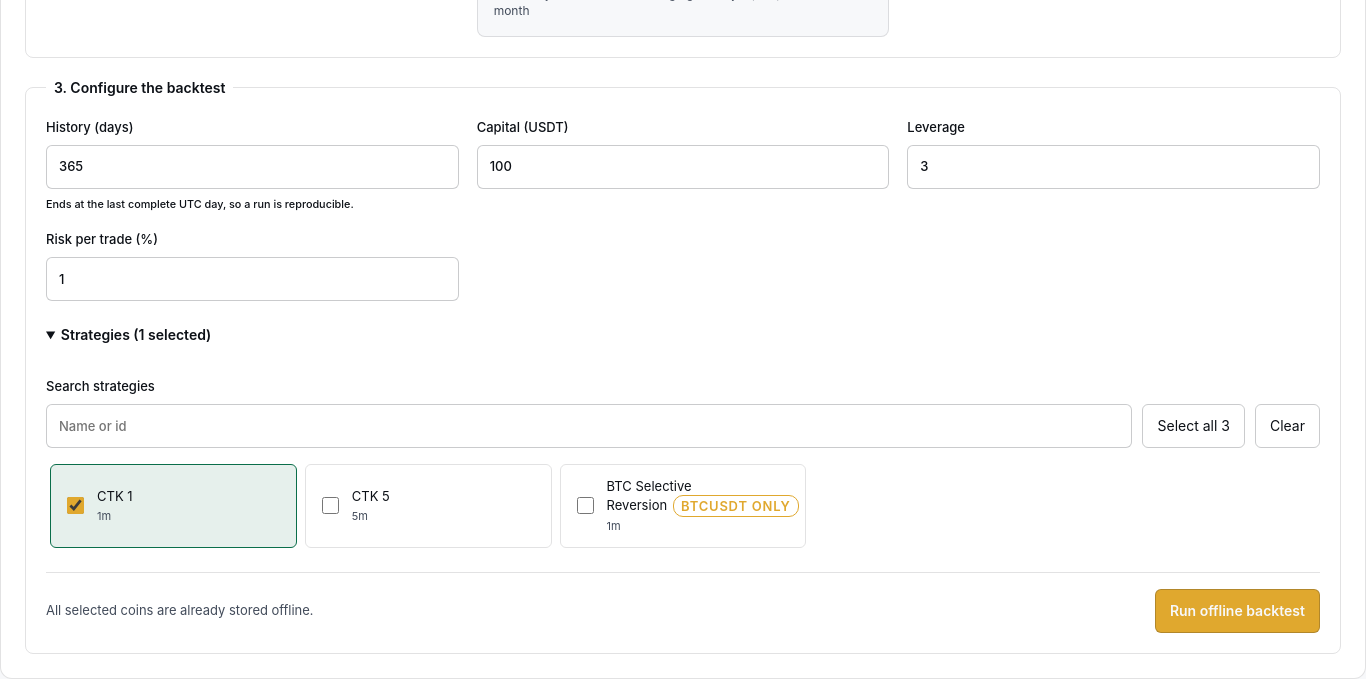
selects every searched strategy at once and the count follows the search
(page scrolled)
Check: the checkbox labelled "CTK 55m" is shown, box [322,497,339,514]
Click the button "Select all 3": (1194, 426) [1142,404,1245,448]
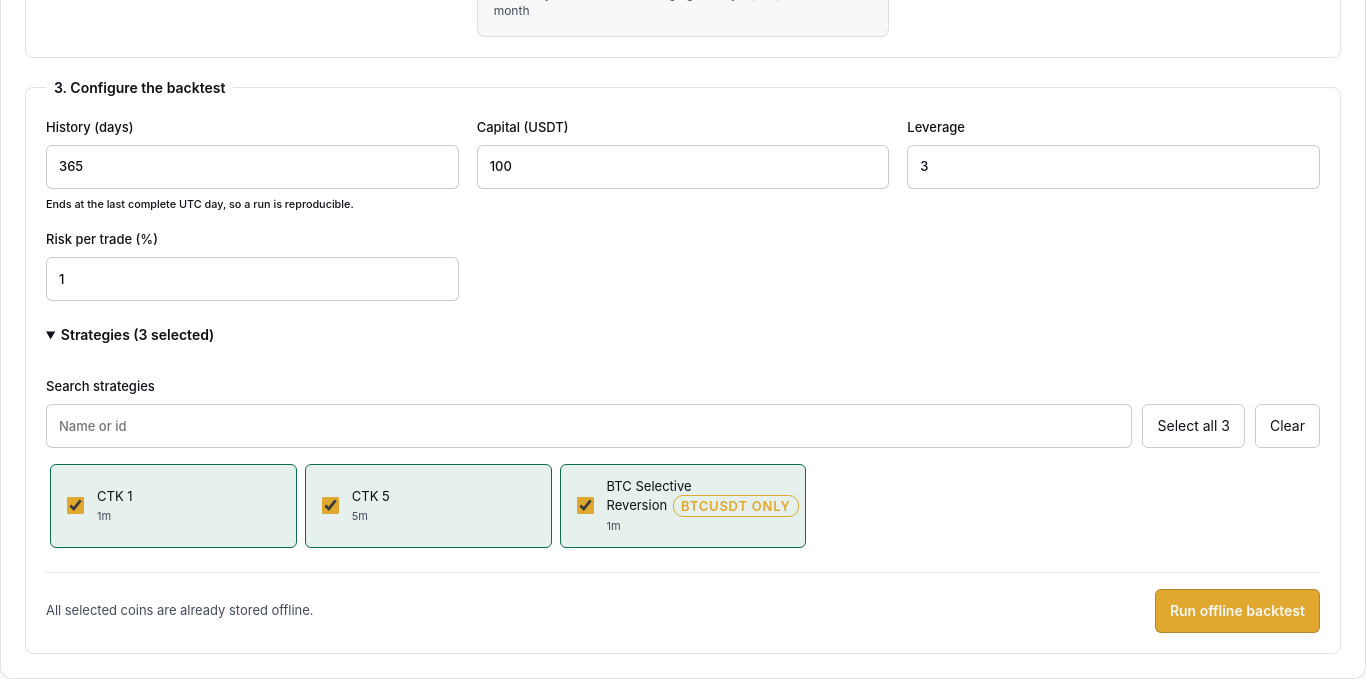
Check: the checkbox labelled "CTK 11m" is checked, box [67,497,84,514]
Check: the checkbox labelled "CTK 55m" is checked, box [322,497,339,514]
Click the button "Clear": (1287, 426) [1255,404,1320,448]
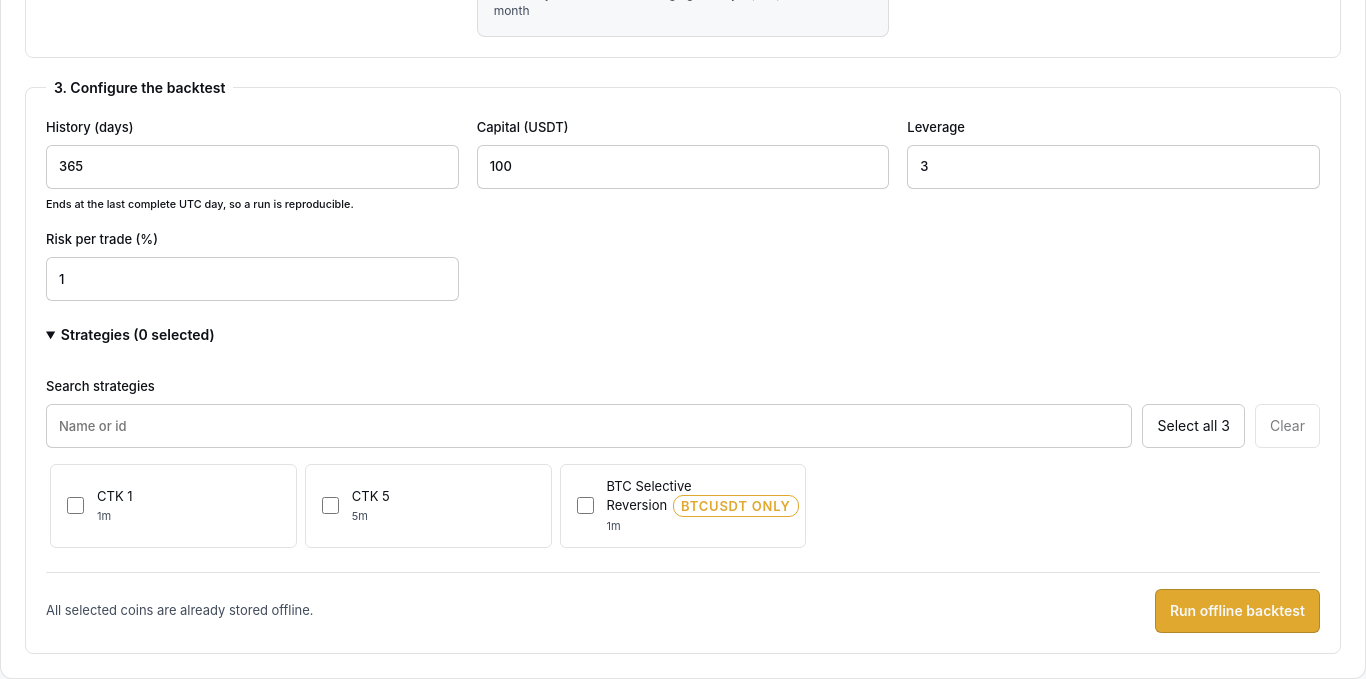
Check: the checkbox labelled "CTK 55m" is not checked, box [322,497,339,514]
// Narrowing the search narrows what "Select all" offers to take.
In the search field labelled "Search strategies": (589, 426) [46,404,1132,448], type "CTK 5"
(page scrolled)
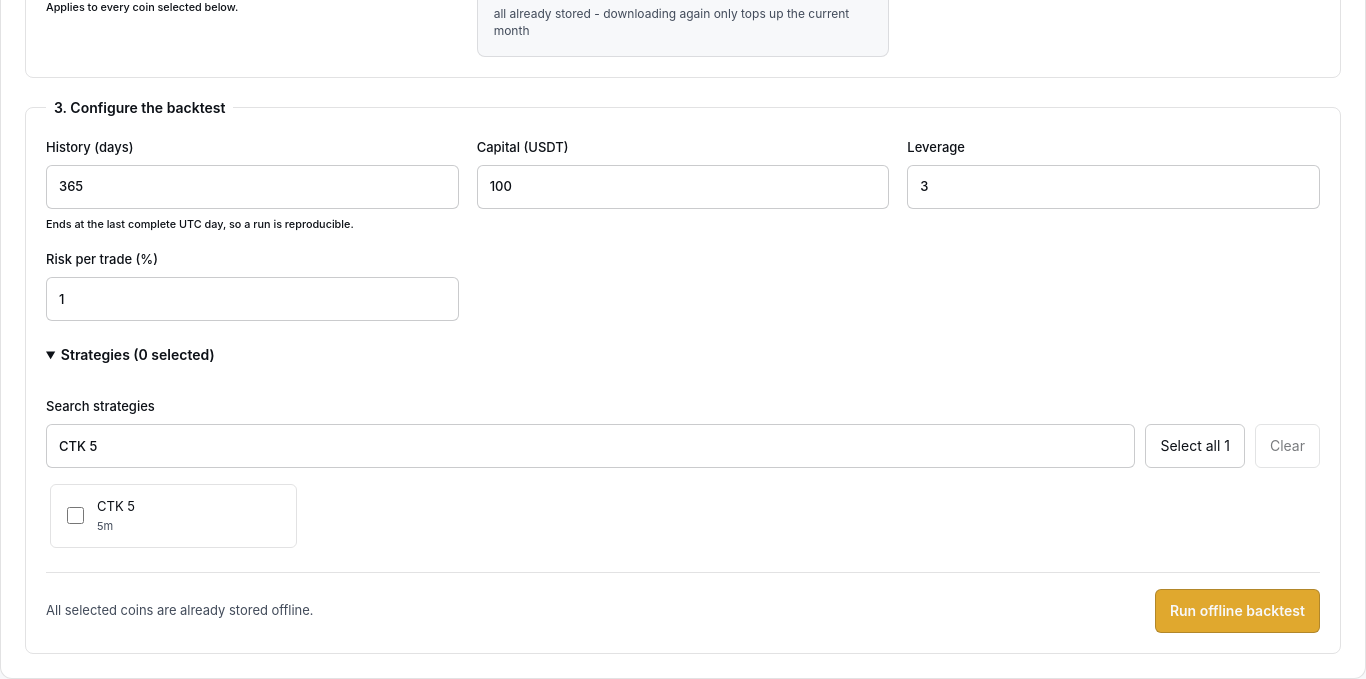
Check: the button "Select all 1" is shown
Click the button "Select all 1": (1195, 446) [1145,424,1245,468]
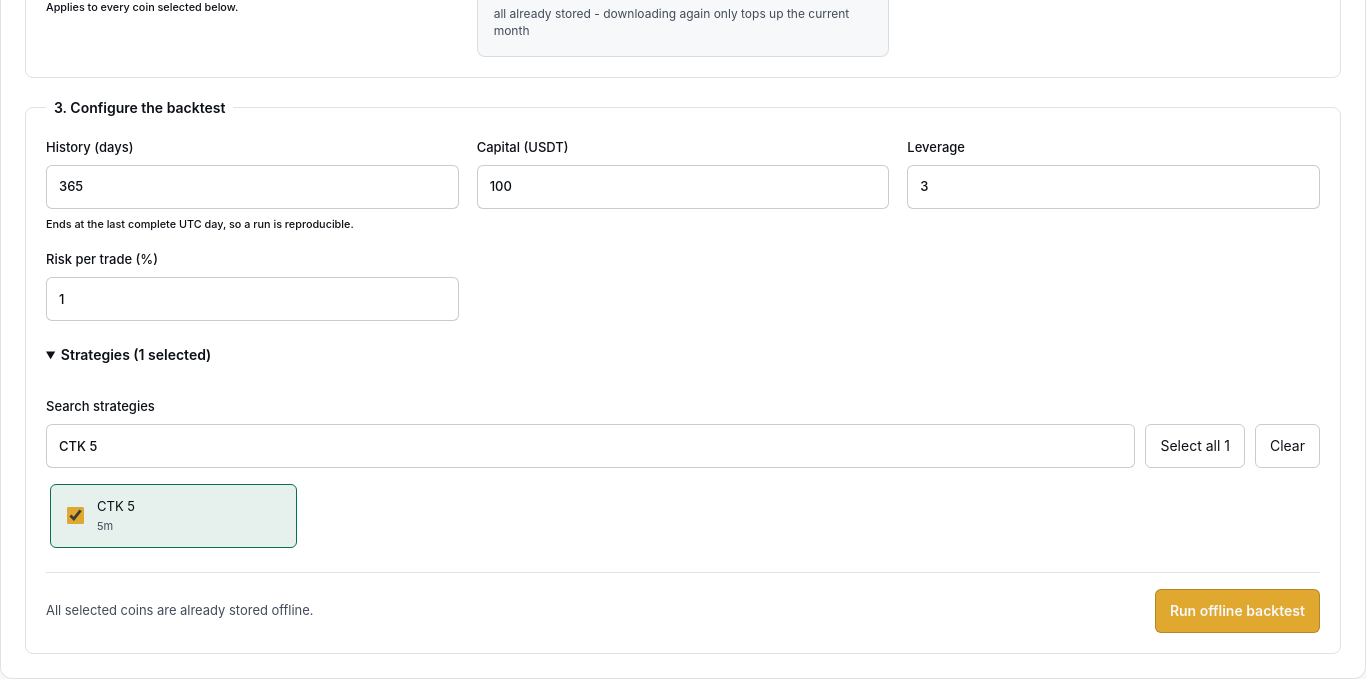
Check: the checkbox labelled "CTK 55m" is checked, box [67,508,84,524]
